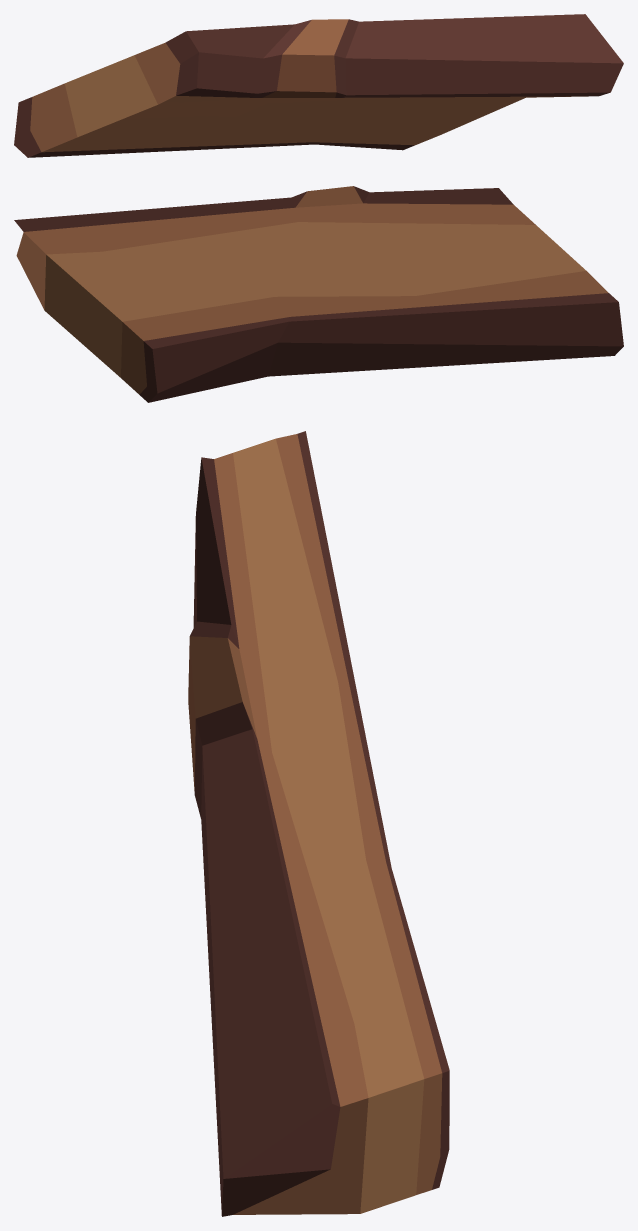
Rendered from icon_plank.fbx.
3 renders of one model, top to bottom at view 1: azimuth 30°, elevation 25°; view 2: azimuth 150°, elevation 25°; view 3: azimuth 270°, elevation 25°, orthographic. The views are drawn at different scales.
Visible parts, largest first — view 1: icon_plank; view 2: icon_plank; view 3: icon_plank.
Boxes of the visible parts, x1,y1,x2,y2 form: icon_plank: (14, 14, 623, 157); icon_plank: (14, 186, 623, 402); icon_plank: (188, 431, 449, 1216).
Size of the model in its own units: 68.26 by 25.46 by 13.12.
